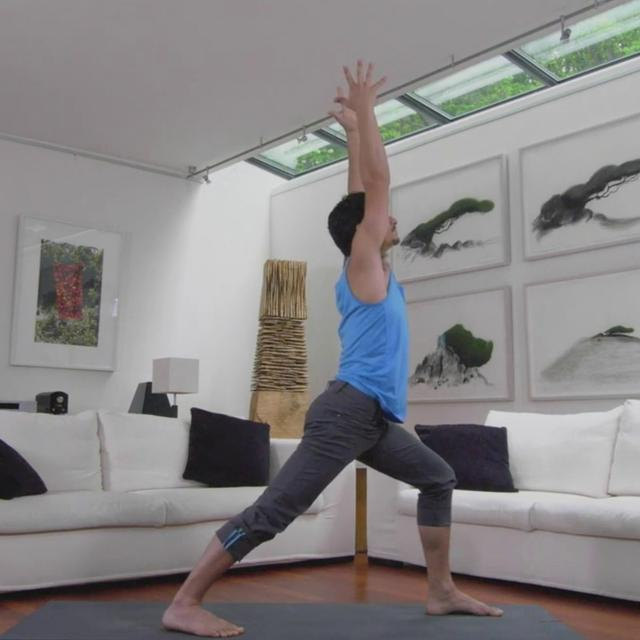Warrior_I: (151, 38, 515, 640)
